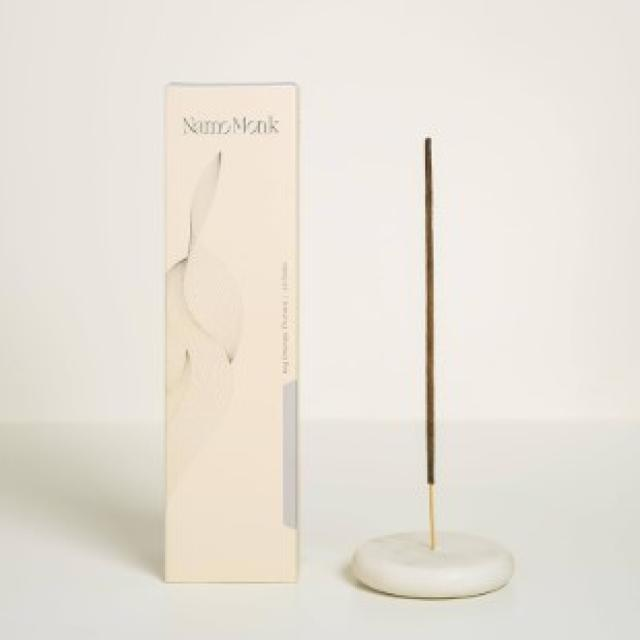Agarbatti: (412, 132, 464, 549)
